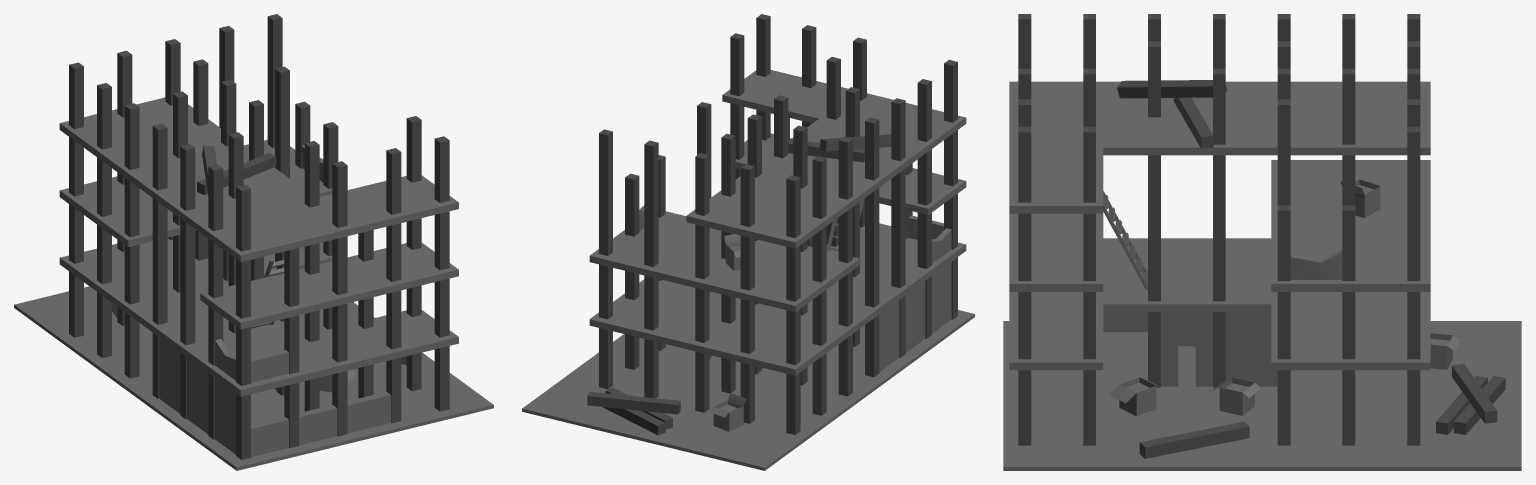
Rendered from building_full.glb.
The picture shows the model from 3 angles, left to right: view 1: azimuth 30°, elevation 25°; view 2: azimuth 150°, elevation 25°; view 3: azimuth 270°, elevation 25°; orthographic projection. The views are drawn at different scales.
Parts seen in each view (by area): view 1: dingsbums; view 2: dingsbums; view 3: dingsbums.
Boxes of the visible parts, x1,y1,x2,y2 form: dingsbums: (14, 14, 493, 470); dingsbums: (522, 14, 974, 470); dingsbums: (1003, 14, 1521, 470).
Bounding box in the file's own units: 8.07 × 8.17 × 12.11.
Materials: 1 (1 with a texture image).
